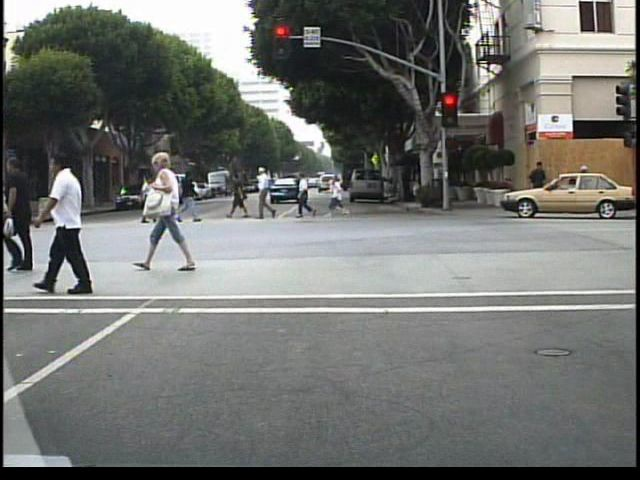person: (38, 152, 109, 299), (144, 150, 208, 276), (7, 148, 52, 280), (253, 166, 283, 222), (180, 170, 206, 228), (295, 168, 318, 222), (229, 171, 252, 222), (528, 157, 549, 212), (571, 160, 592, 214), (4, 184, 24, 236), (15, 195, 36, 238), (140, 172, 155, 225)
